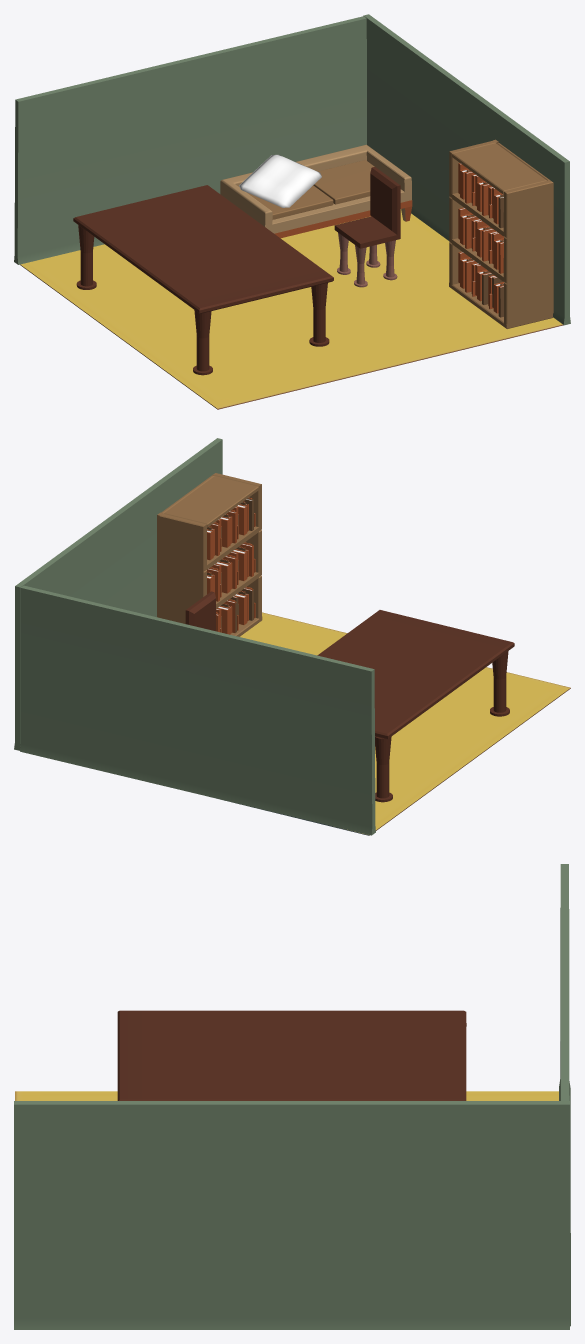
File: RoomScene.fbx
The picture shows the model from 3 angles, top to bottom: view 1: azimuth 30°, elevation 25°; view 2: azimuth 150°, elevation 25°; view 3: azimuth 270°, elevation 25°; orthographic projection. The views are drawn at different scales.
Parts seen in each view (by area): view 1: Wall1, Floor, table___Copy:Table, Wall2, Bookshelf, sofa___Copy:pCube2, Books, chair___Copy:Chair; view 2: Wall1, Floor, table___Copy:Table, Wall2, Bookshelf, Books, chair___Copy:Chair; view 3: Wall2, table___Copy:Table, Wall1, Floor.
Boxes of the visible parts, left/top/right/bottom form: Wall1: left=14, top=16, right=366, bottom=264; Floor: left=20, top=209, right=563, bottom=409; table___Copy:Table: left=73, top=185, right=333, bottom=375; Wall2: left=363, top=14, right=570, bottom=325; Bookshelf: left=449, top=139, right=553, bottom=328; sofa___Copy:pCube2: left=220, top=144, right=412, bottom=238; Books: left=458, top=163, right=503, bottom=317; chair___Copy:Chair: left=334, top=167, right=400, bottom=287; Wall1: left=20, top=585, right=375, bottom=835; Floor: left=224, top=612, right=570, bottom=835; table___Copy:Table: left=317, top=610, right=514, bottom=802; Wall2: left=14, top=438, right=222, bottom=750; Bookshelf: left=157, top=473, right=262, bottom=636; Books: left=207, top=497, right=255, bottom=634; chair___Copy:Chair: left=185, top=591, right=215, bottom=631; Wall2: left=14, top=1101, right=569, bottom=1329; table___Copy:Table: left=117, top=1010, right=466, bottom=1100; Wall1: left=559, top=864, right=570, bottom=1326; Floor: left=15, top=1091, right=558, bottom=1100.
Bounding box in the file's own units: 24.22 × 10.69 × 23.76.
Materials: 9 (8 with a texture image).
